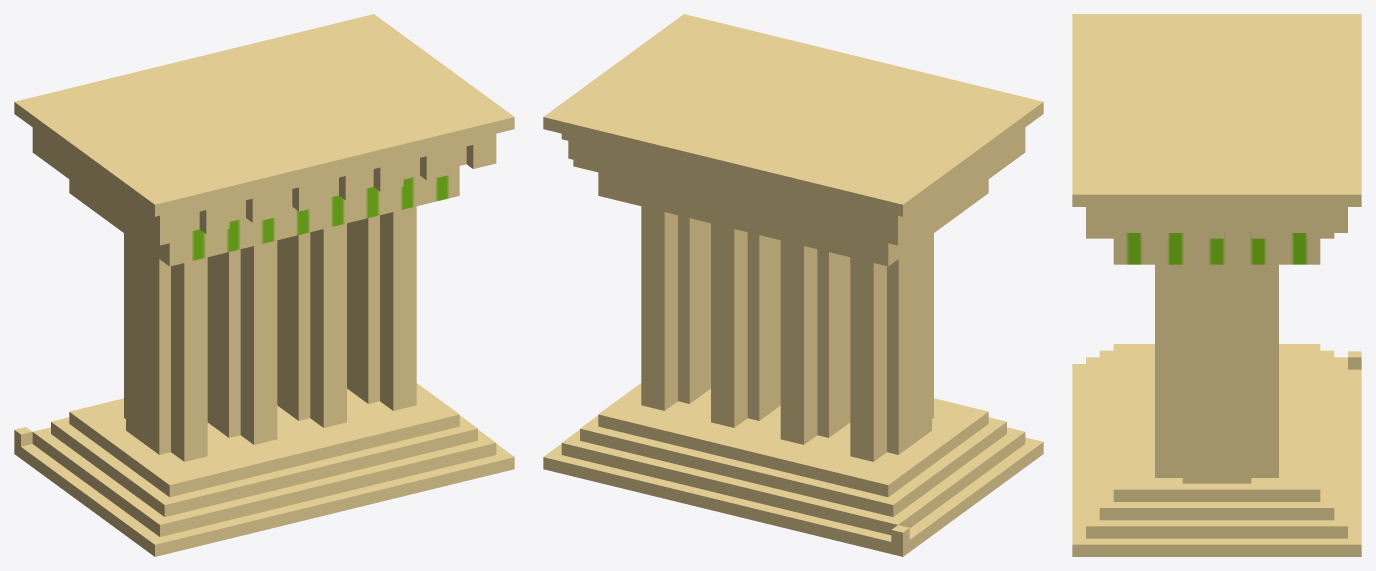
File: TwentyFiveModel.fbx
3 renders of one model, left to right at view 1: azimuth 30°, elevation 25°; view 2: azimuth 150°, elevation 25°; view 3: azimuth 270°, elevation 25°, orthographic. The views are drawn at different scales.
Parts seen in each view (by area): view 1: Box; view 2: Box; view 3: Box.
Boxes of the visible parts, x1,y1,x2,y2 form: Box: [14, 14, 514, 556]; Box: [543, 14, 1043, 556]; Box: [1072, 14, 1361, 556].
Size of the model in its own units: 31 by 29 by 21.
1 material, 1 textured.
